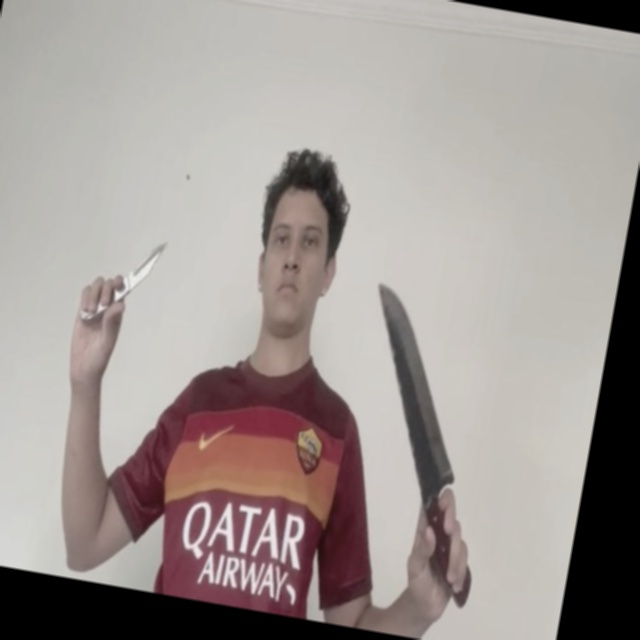Sharp-Object: (345, 282, 487, 489), (126, 238, 168, 293)
